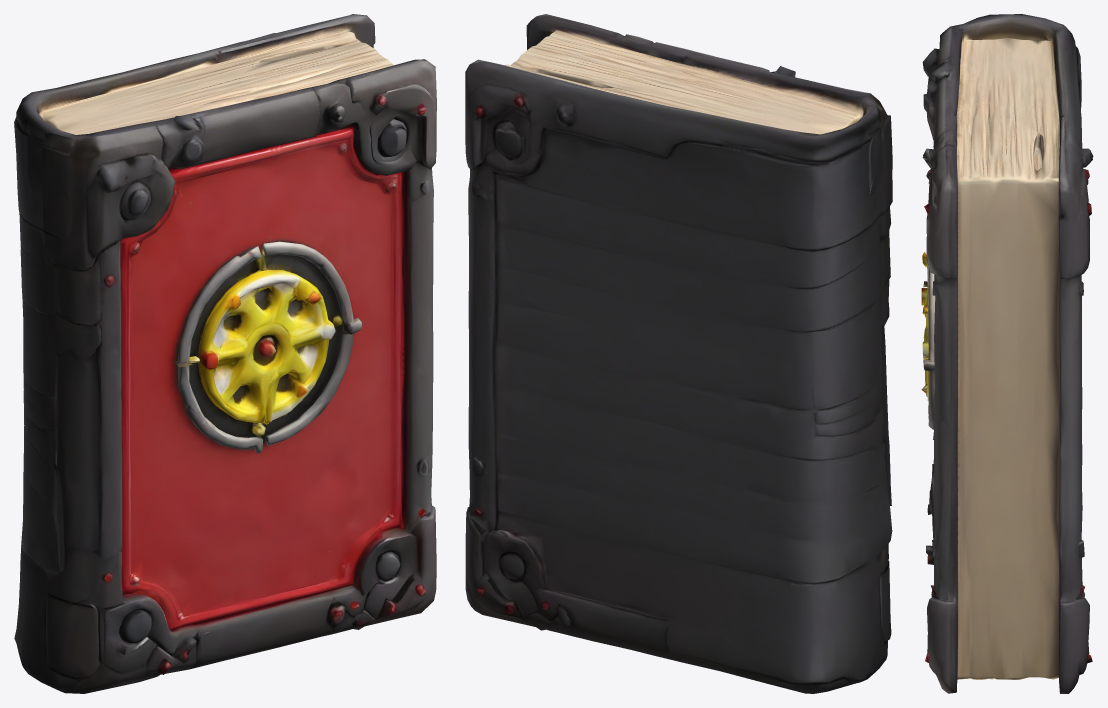
File: book.glb
3 renders of one model, left to right at view 1: azimuth 30°, elevation 25°; view 2: azimuth 150°, elevation 25°; view 3: azimuth 270°, elevation 25°, orthographic. The views are drawn at different scales.
Visible parts, largest first — view 1: book / mesh; view 2: book / mesh; view 3: book / mesh.
Boxes of the visible parts, left/top/right/bottom form: book / mesh: left=14, top=14, right=436, bottom=693; book / mesh: left=465, top=14, right=892, bottom=693; book / mesh: left=921, top=14, right=1093, bottom=693.
Bounding box in the file's own units: 0.2403 × 0.34 × 0.1014.
Materials: 1 (1 with a texture image).
